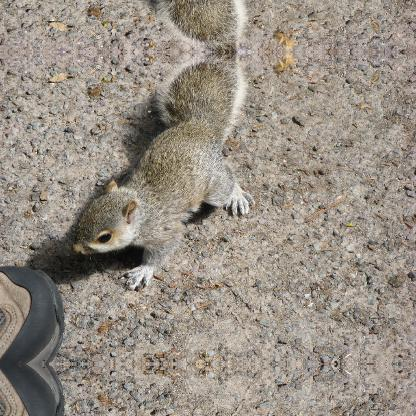Squirrel: (69, 52, 254, 292), (68, 0, 254, 53)
